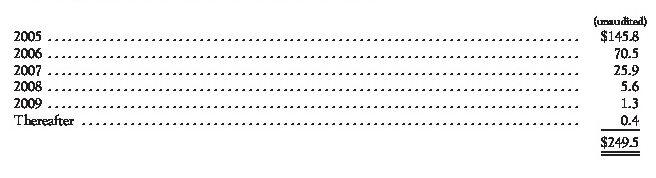table: (0, 0, 656, 178)
